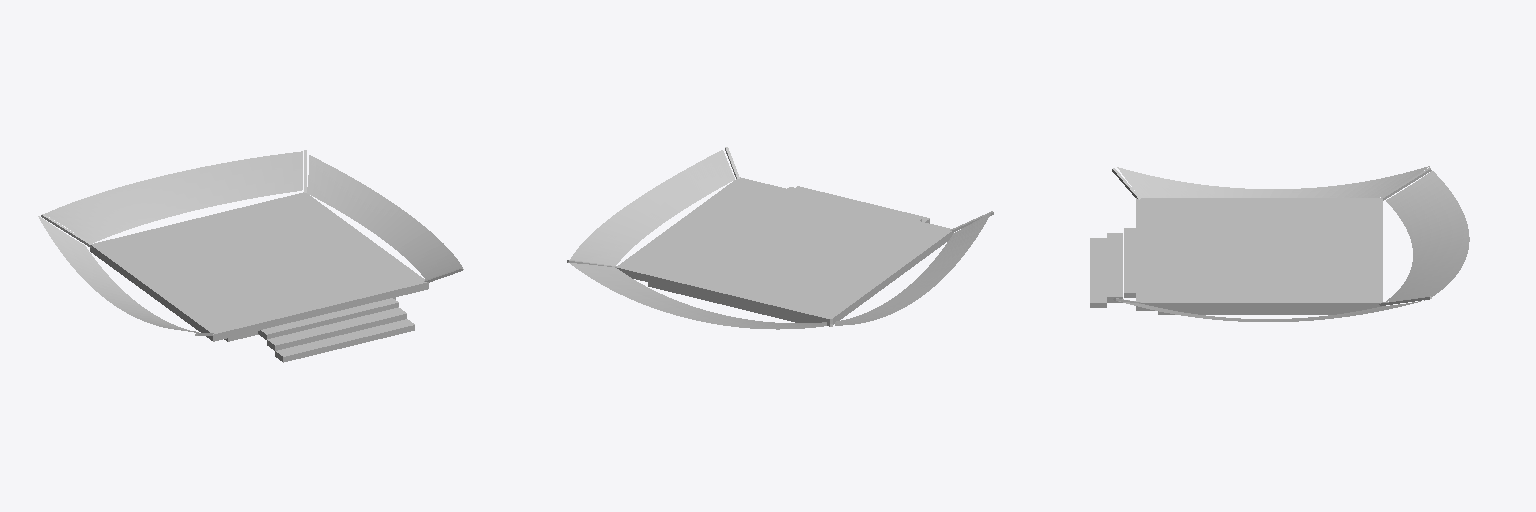
The model's file is helipad.obj.
3 views of the same model, side by side, from view 1: azimuth 30°, elevation 25°; view 2: azimuth 150°, elevation 25°; view 3: azimuth 270°, elevation 25° (orthographic).
Visible parts, largest first — view 1: Cube, Cube.009, Cube.011, Cube.010, Cube.003, Cube.002, Cube.004; view 2: Cube, Cube.011, Cube.009, Cube.010, Cube.001; view 3: Cube, Cube.009, Cube.010, Cube.002, Cube.003, Cube.011, Cube.004, Cube.001.
Part boxes in pixels (bbox=[...]): Cube: bbox=[90, 192, 428, 341]; Cube.009: bbox=[45, 151, 302, 243]; Cube.011: bbox=[307, 155, 461, 279]; Cube.010: bbox=[38, 216, 198, 332]; Cube.003: bbox=[267, 307, 406, 350]; Cube.002: bbox=[275, 319, 414, 362]; Cube.004: bbox=[258, 298, 398, 339]; Cube: bbox=[617, 177, 952, 326]; Cube.011: bbox=[570, 150, 734, 265]; Cube.009: bbox=[570, 263, 826, 329]; Cube.010: bbox=[835, 212, 991, 325]; Cube.001: bbox=[648, 282, 812, 322]; Cube: bbox=[1136, 198, 1382, 310]; Cube.009: bbox=[1386, 171, 1469, 301]; Cube.010: bbox=[1117, 166, 1429, 197]; Cube.002: bbox=[1090, 238, 1106, 307]; Cube.003: bbox=[1107, 233, 1122, 302]; Cube.011: bbox=[1119, 300, 1424, 321]; Cube.004: bbox=[1124, 228, 1135, 297]; Cube.001: bbox=[1158, 311, 1355, 314].
Size of the model in its own units: 14.94 by 1.98 by 16.32.